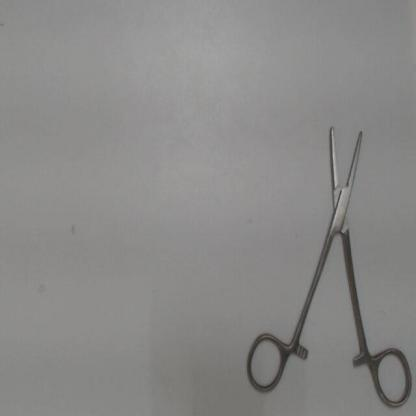Mayo Needle Holder: (241, 108, 415, 412)
